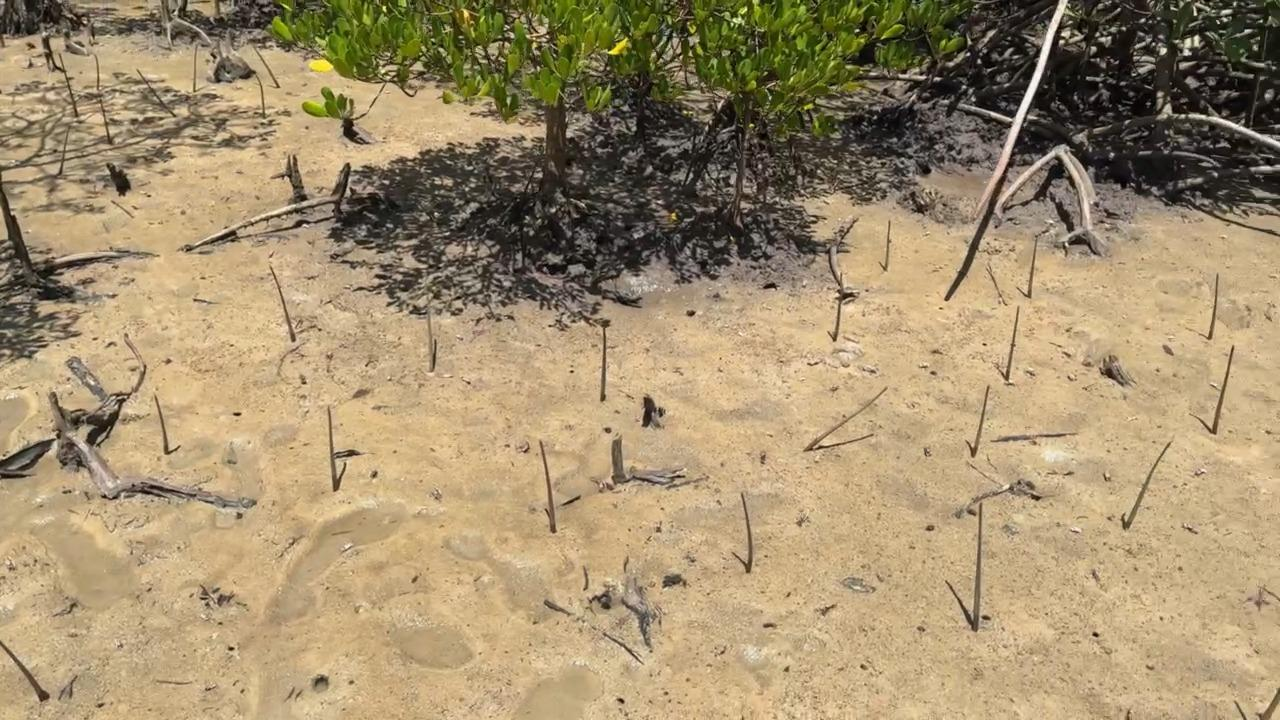Tree: (804, 386, 887, 450), (1125, 441, 1172, 528), (0, 640, 49, 701), (269, 264, 296, 342), (136, 70, 176, 118), (1213, 345, 1234, 435), (971, 502, 984, 633), (540, 440, 557, 533), (971, 385, 990, 457), (251, 44, 281, 88), (59, 54, 79, 118), (741, 492, 754, 573), (1006, 305, 1020, 380), (328, 406, 340, 492), (155, 394, 169, 454), (1208, 273, 1220, 340), (833, 272, 843, 342), (1028, 238, 1038, 298), (57, 128, 70, 174), (1261, 689, 1280, 720), (101, 98, 114, 143), (427, 304, 435, 373), (601, 326, 607, 402), (256, 76, 266, 117), (884, 219, 891, 271), (192, 43, 199, 93), (95, 55, 101, 91)
